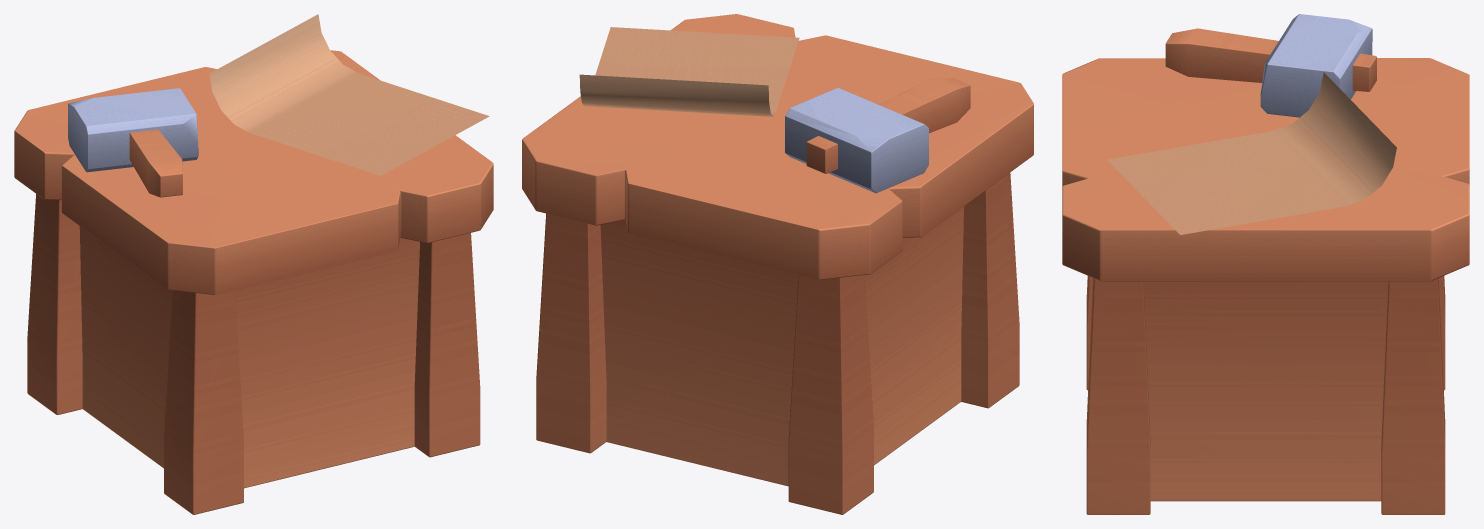
File: workbench.glb
3 views of the same model, side by side, from view 1: azimuth 30°, elevation 25°; view 2: azimuth 150°, elevation 25°; view 3: azimuth 270°, elevation 25° (orthographic). The views are drawn at different scales.
Parts seen in each view (by area): view 1: workbench, paper, hammer; view 2: workbench, paper, hammer; view 3: workbench, paper, hammer.
Boxes of the visible parts, <box> form: workbench: <box>14,50,493,514</box>; paper: <box>209,14,489,175</box>; hammer: <box>68,88,198,197</box>; workbench: <box>522,14,1033,514</box>; paper: <box>579,27,799,116</box>; hammer: <box>785,78,970,193</box>; workbench: <box>1062,58,1469,514</box>; paper: <box>1107,72,1396,234</box>; hammer: <box>1165,14,1376,117</box>.
Bounding box in the file's own units: 0.3257 × 0.2866 × 0.2957.
Materials: 3 (3 with a texture image).
